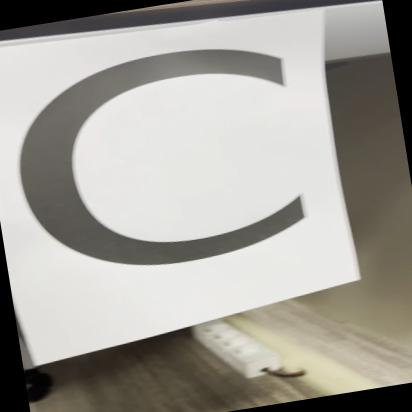seat: (0, 0, 373, 363)
